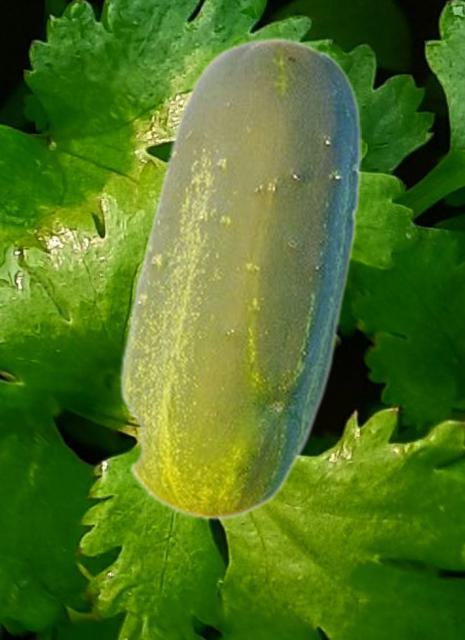cucumber: (118, 36, 360, 520)
